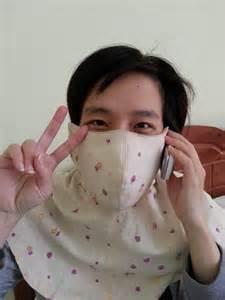OK: (72, 107, 161, 196)
